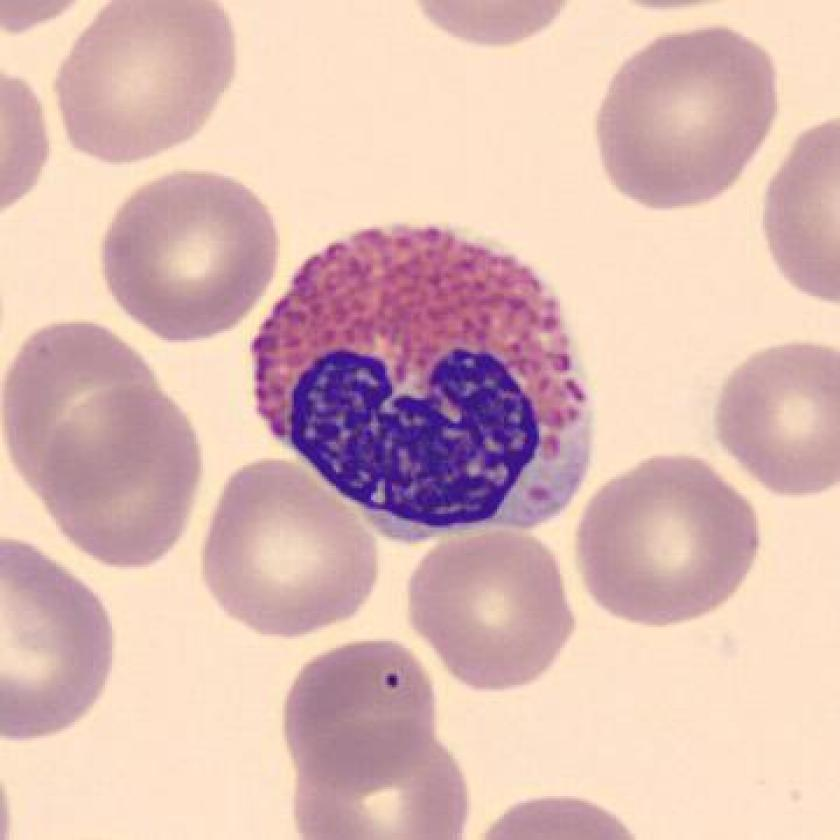eosinophil: (230, 214, 608, 545)
